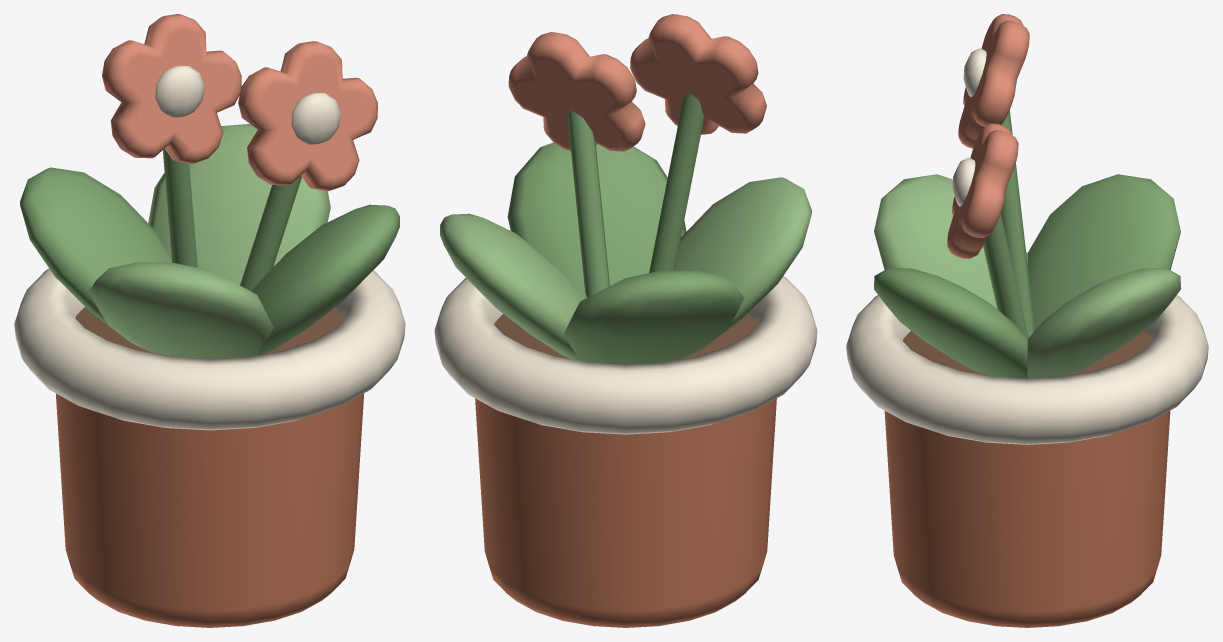
Rendered from flower_pot_bloom.glb.
3 renders of one model, left to right at view 1: azimuth 30°, elevation 25°; view 2: azimuth 150°, elevation 25°; view 3: azimuth 270°, elevation 25°, orthographic. The views are drawn at different scales.
Visible parts, largest first — view 1: 09-flower-pot_mesh; view 2: 09-flower-pot_mesh; view 3: 09-flower-pot_mesh.
Boxes of the visible parts, x1,y1,x2,y2 form: 09-flower-pot_mesh: (14,14,405,627); 09-flower-pot_mesh: (434,14,817,627); 09-flower-pot_mesh: (846,14,1208,627).
Size of the model in its own units: 0.3514 by 0.5732 by 0.3514.
